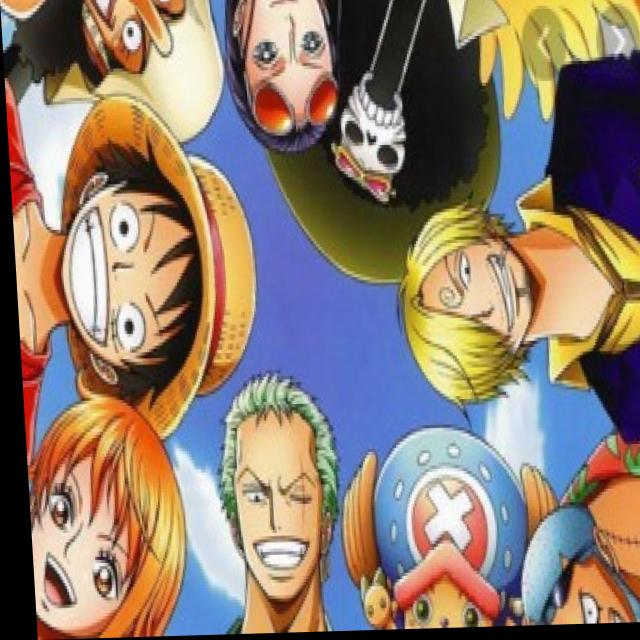Blook: (310, 0, 494, 216)
Chyopa: (325, 408, 559, 633)
Franky: (502, 493, 640, 629)
Luffy: (5, 104, 271, 414)
Nami: (18, 389, 192, 640)
NicoRobin: (221, 0, 350, 176)
Sangdi: (381, 188, 552, 429)
Usopp: (0, 0, 215, 129)
Zoro: (195, 361, 352, 636)
